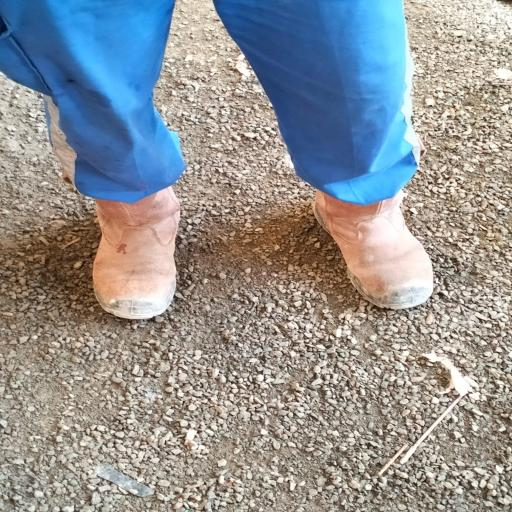safety_shoe: (310, 181, 438, 315), (84, 181, 184, 322)
